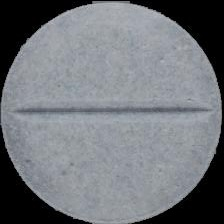10544-069: (0, 0, 224, 224)
